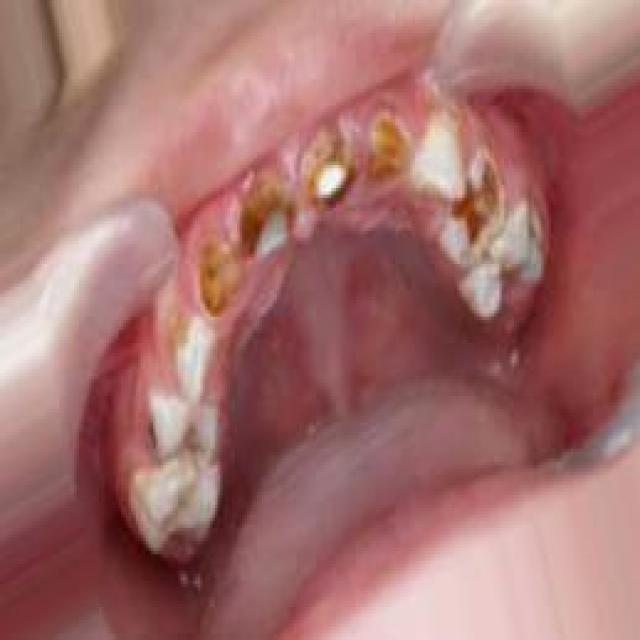caries: (440, 149, 510, 261), (292, 129, 364, 231), (233, 166, 297, 263), (182, 230, 248, 320), (357, 104, 420, 194), (160, 306, 207, 368), (136, 408, 173, 470)
